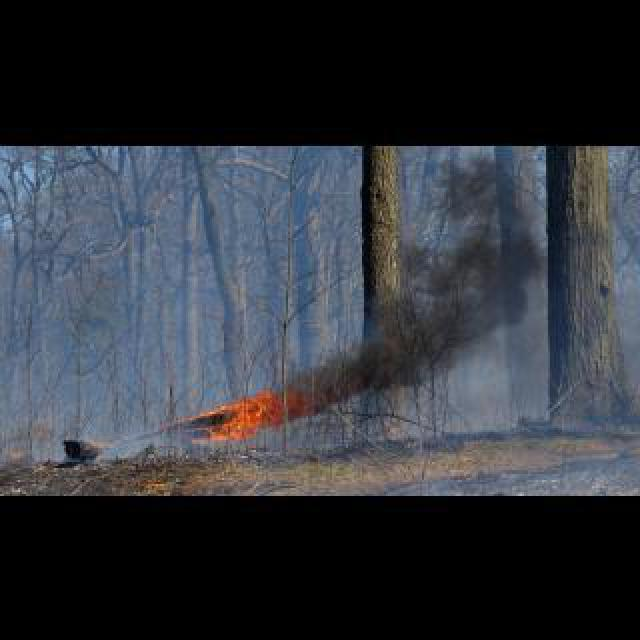Fire: (204, 386, 284, 440)
Smoke: (406, 146, 542, 310), (282, 362, 452, 426), (352, 312, 532, 360)
